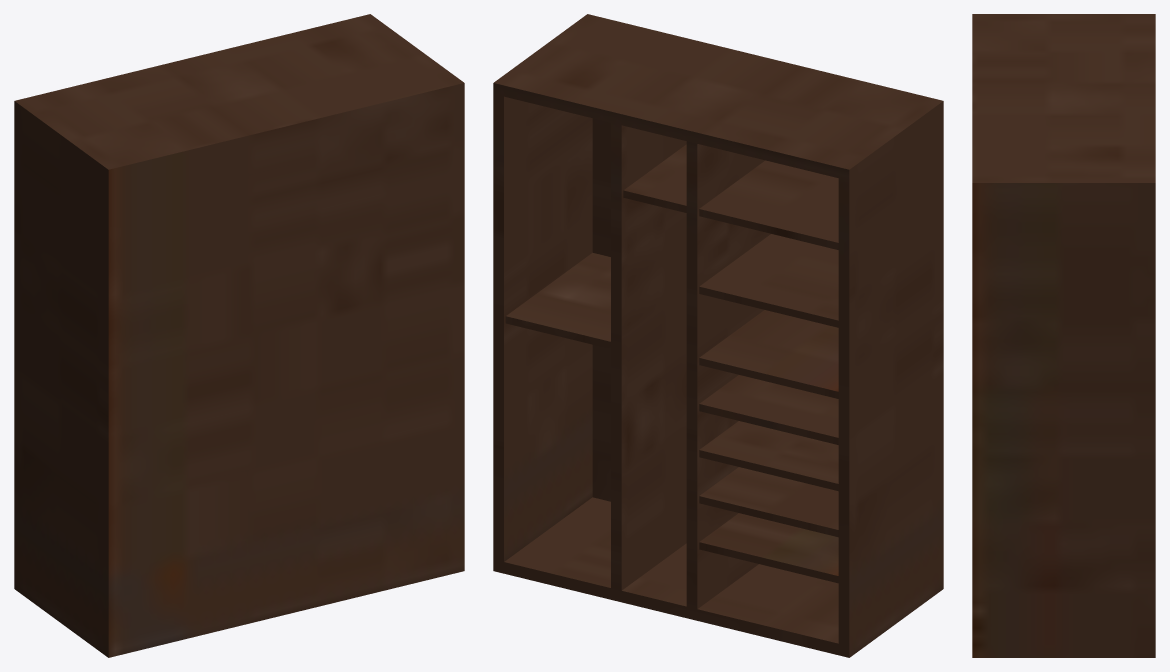
The model's file is Closet08.glb.
The picture shows the model from 3 angles, left to right: view 1: azimuth 30°, elevation 25°; view 2: azimuth 150°, elevation 25°; view 3: azimuth 270°, elevation 25°; orthographic projection. The views are drawn at different scales.
Visible parts, largest first — view 1: Closet08_model; view 2: Closet08_model; view 3: Closet08_model.
Part boxes in pixels (x1,y1,x2,y2): Closet08_model: [14, 14, 464, 657]; Closet08_model: [493, 14, 943, 657]; Closet08_model: [972, 14, 1155, 657].
Bounding box in the file's own units: 4.27 × 5.6 × 1.96.
Materials: 1 (1 with a texture image).
